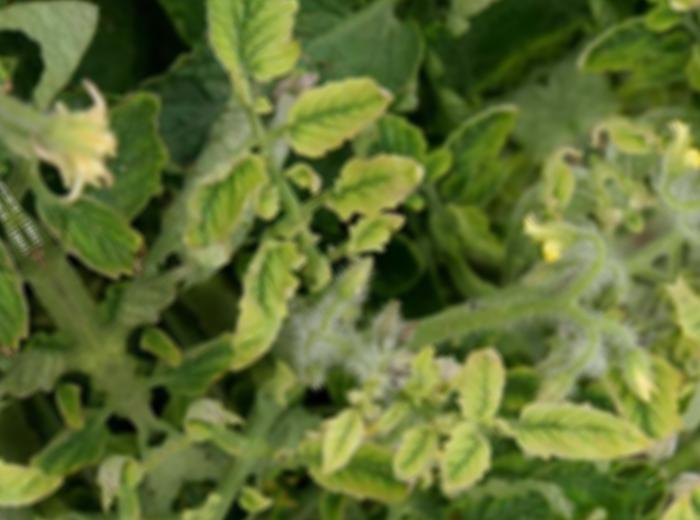Tomato leaf yellow virus: (170, 223, 343, 387), (482, 359, 658, 520), (136, 134, 301, 282), (153, 0, 351, 115), (271, 56, 406, 171), (424, 328, 542, 441), (390, 418, 515, 520), (324, 123, 444, 226), (285, 398, 383, 494)
